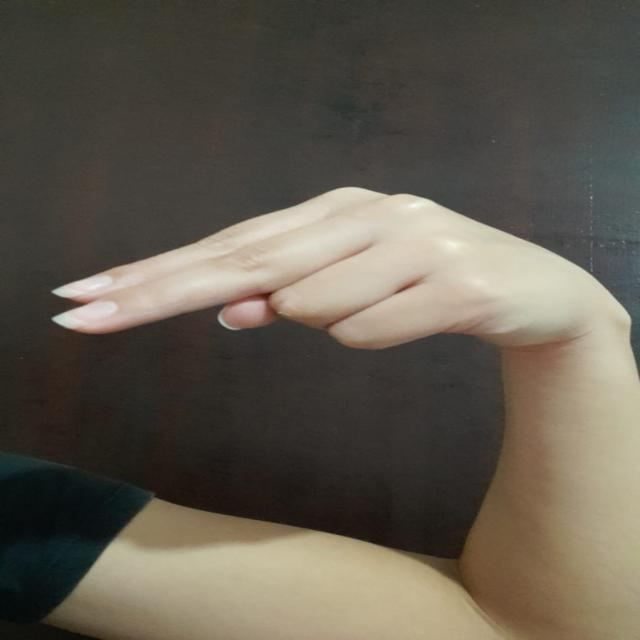N: (43, 180, 623, 352)
